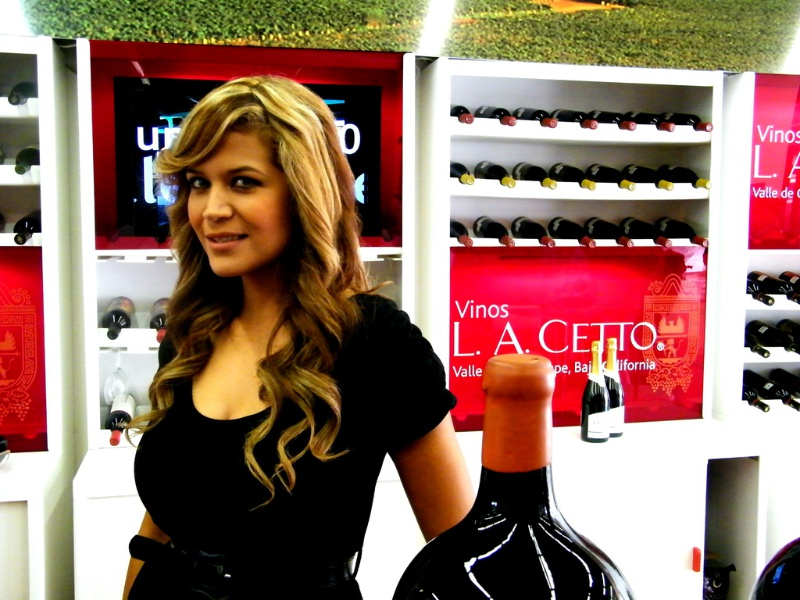wine: (393, 343, 643, 600), (446, 94, 716, 257), (743, 261, 798, 423), (701, 517, 800, 593), (582, 330, 629, 445)
